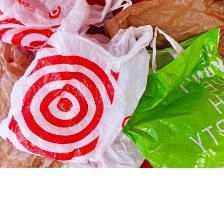plastic_bag: (1, 1, 154, 165), (122, 24, 223, 169), (0, 36, 64, 167), (99, 0, 223, 63), (0, 0, 132, 52), (59, 115, 151, 170)
